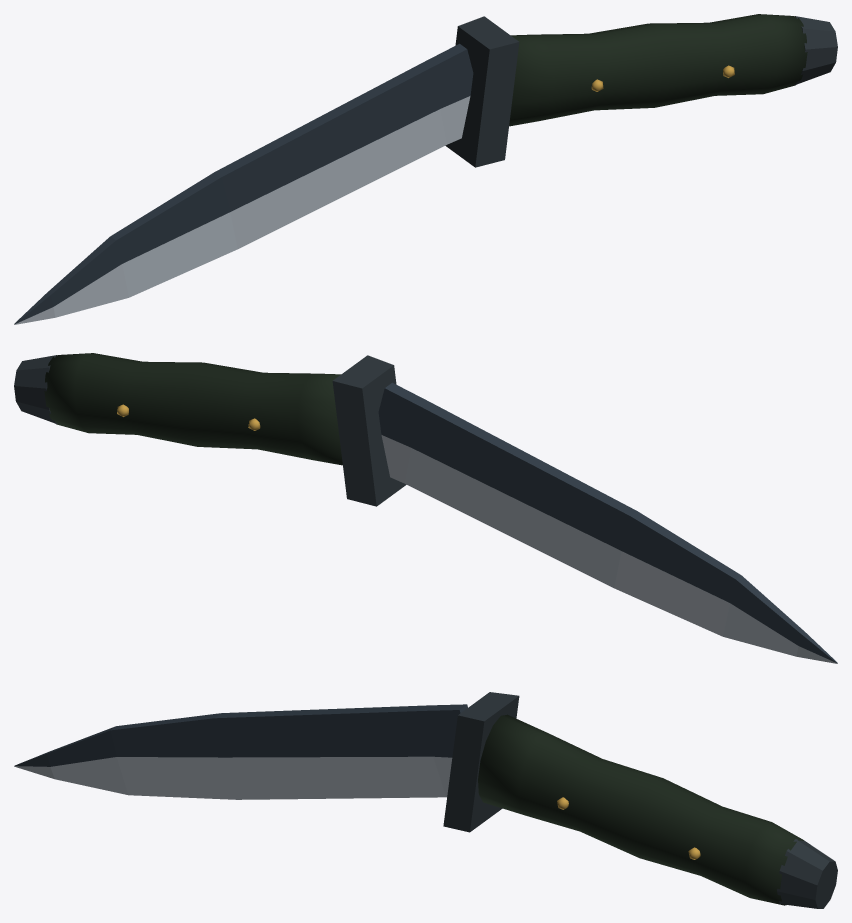
Rendered from tactical_knife.glb.
3 views of the same model, one above another, from view 1: azimuth 30°, elevation 25°; view 2: azimuth 150°, elevation 25°; view 3: azimuth 330°, elevation 25° (orthographic).
Parts seen in each view (by area): view 1: YS_Tactical_Knife; view 2: YS_Tactical_Knife; view 3: YS_Tactical_Knife.
Part boxes in pixels (x1,y1,x2,y2): YS_Tactical_Knife: (14,14,837,324); YS_Tactical_Knife: (14,353,837,663); YS_Tactical_Knife: (14,692,837,908).
Bounding box in the file's own units: 0.2952 × 0.0621 × 0.0251.
